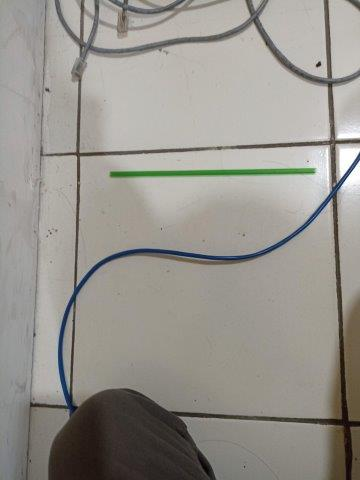sedotan: (111, 167, 316, 177)
